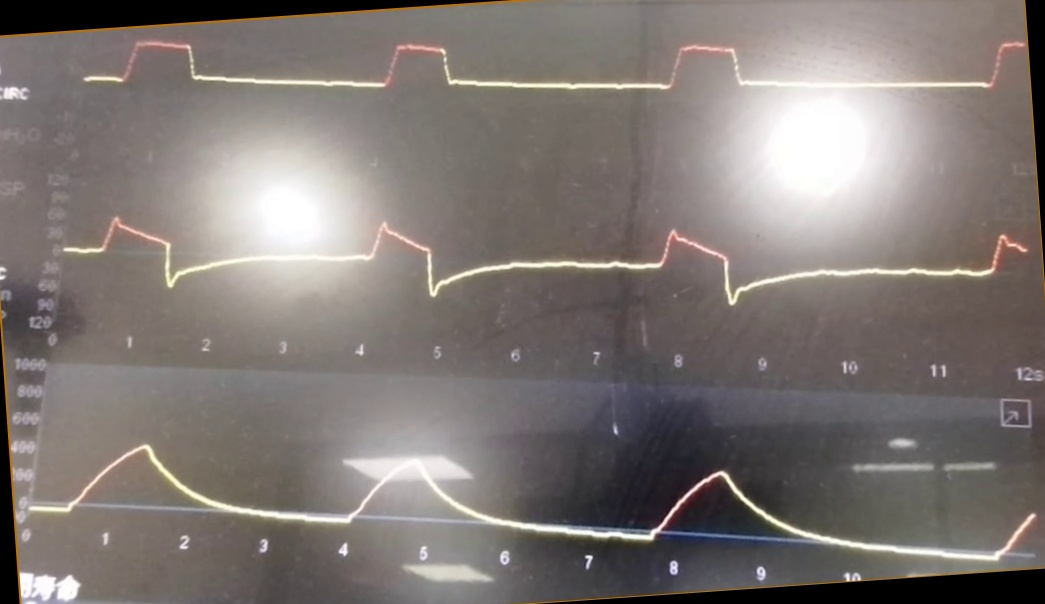Normal Flow: (64, 173, 1028, 327)
Normal Volume: (38, 408, 1033, 564)
